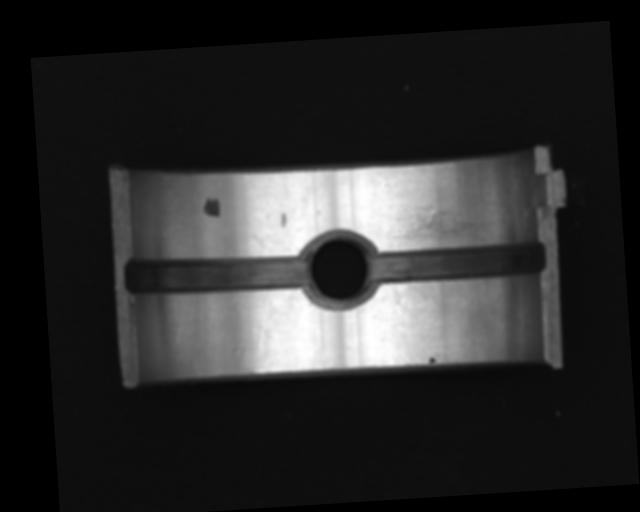blot: (202, 195, 221, 218), (428, 352, 439, 364)
bruise: (279, 212, 286, 228)
gap: (124, 245, 311, 297), (370, 244, 546, 284)
hole: (303, 230, 380, 311)
nick: (254, 292, 272, 350)
scratch: (385, 207, 501, 244)
